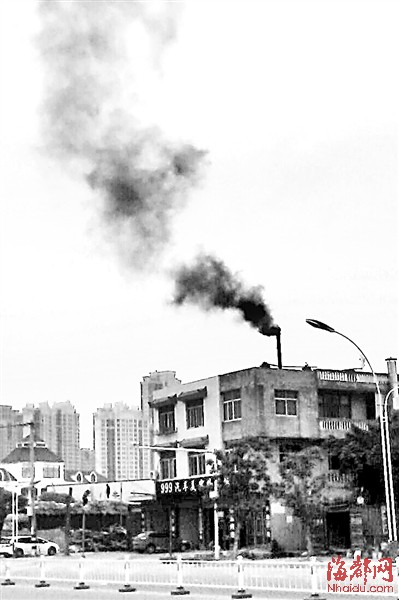dust: (161, 245, 289, 338)
